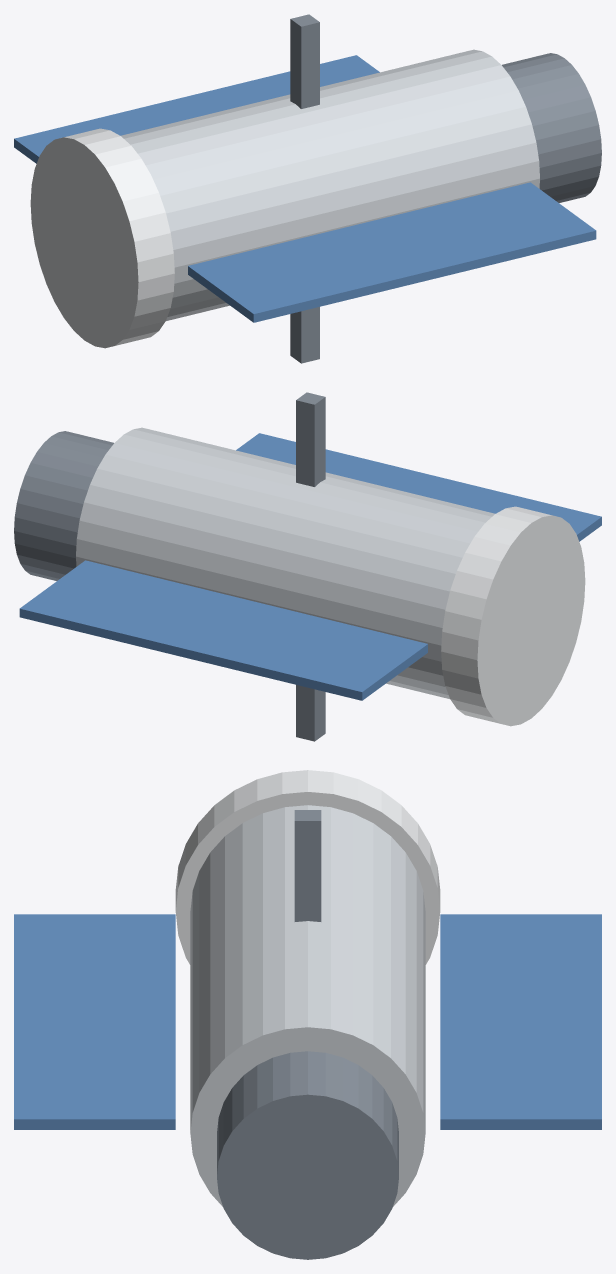
Rendered from hubble.glb.
3 renders of one model, top to bottom at view 1: azimuth 30°, elevation 25°; view 2: azimuth 150°, elevation 25°; view 3: azimuth 270°, elevation 25°, orthographic. The views are drawn at different scales.
Visible parts, largest first — view 1: hubble_0, hubble_3, hubble_2, hubble_1, hubble_4, hubble_5; view 2: hubble_0, hubble_4, hubble_2, hubble_1, hubble_3, hubble_5; view 3: hubble_0, hubble_3, hubble_4, hubble_1, hubble_2, hubble_5.
Boxes of the visible parts, left/top/right/bottom form: hubble_0: left=120, top=49, right=539, bottom=320; hubble_3: left=188, top=182, right=596, bottom=322; hubble_2: left=30, top=128, right=174, bottom=348; hubble_1: left=502, top=53, right=601, bottom=202; hubble_4: left=14, top=55, right=379, bottom=163; hubble_5: left=290, top=14, right=319, bottom=363; hubble_0: left=76, top=427, right=495, bottom=698; hubble_4: left=19, top=560, right=427, bottom=700; hubble_2: left=441, top=506, right=585, bottom=726; hubble_1: left=14, top=431, right=113, bottom=580; hubble_3: left=236, top=433, right=601, bottom=541; hubble_5: left=296, top=392, right=325, bottom=741; hubble_0: left=190, top=805, right=425, bottom=1206; hubble_3: left=14, top=914, right=175, bottom=1129; hubble_4: left=440, top=914, right=601, bottom=1129; hubble_1: left=217, top=1051, right=398, bottom=1259; hubble_2: left=175, top=770, right=440, bottom=964; hubble_5: left=294, top=810, right=321, bottom=921.
Bounding box in the file's own units: 4.62 × 3.1 × 4.
